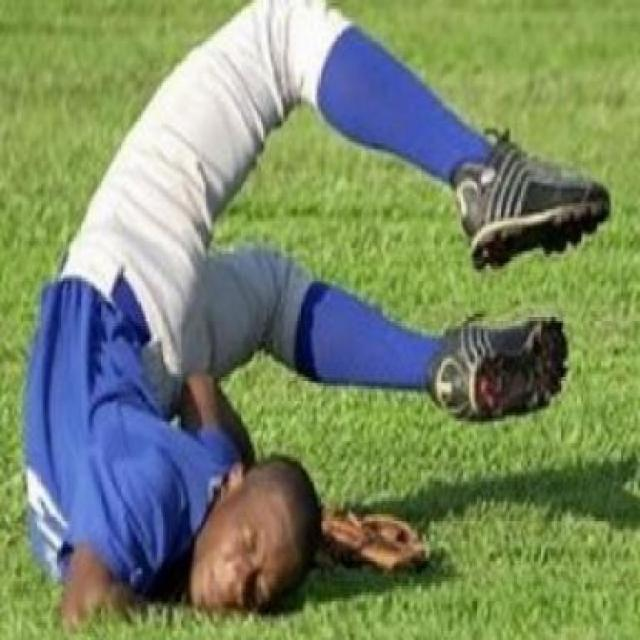fall: (18, 0, 619, 618)
